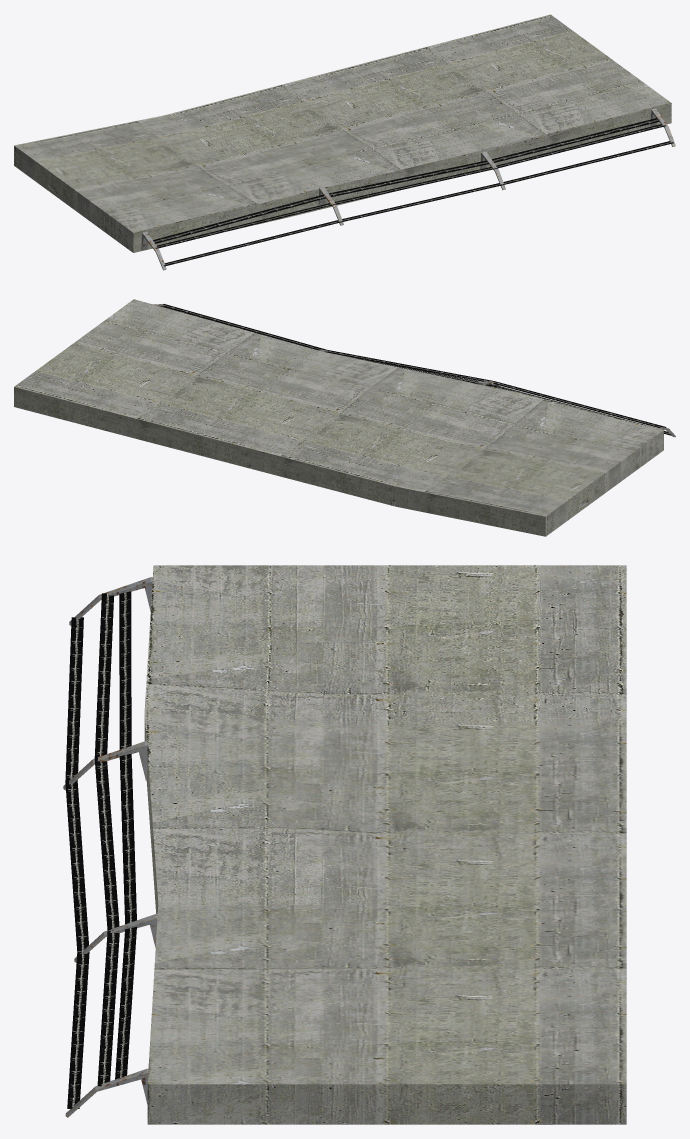
Rendered from mauer_B.obj.
3 renders of one model, top to bottom at view 1: azimuth 30°, elevation 25°; view 2: azimuth 150°, elevation 25°; view 3: azimuth 270°, elevation 25°, orthographic. The views are drawn at different scales.
Visible parts, largest first — view 1: Box011; view 2: Box011; view 3: Box011.
Boxes of the visible parts, bbox=[...] form: Box011: bbox=[14, 14, 675, 270]; Box011: bbox=[14, 299, 675, 536]; Box011: bbox=[63, 565, 626, 1124].
Size of the model in its own units: 12.05 by 0.637 by 5.52.
Materials: 3 (3 with a texture image).
